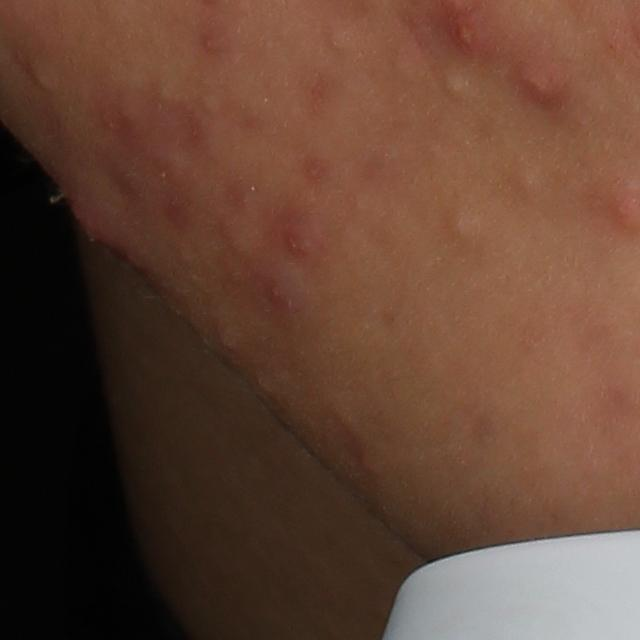comedo: (20, 53, 70, 102), (514, 158, 551, 209), (316, 21, 358, 56), (450, 205, 482, 245), (441, 70, 473, 101), (201, 90, 229, 124)
papule: (507, 39, 582, 113), (279, 195, 325, 273), (68, 190, 120, 256), (264, 275, 298, 309)
